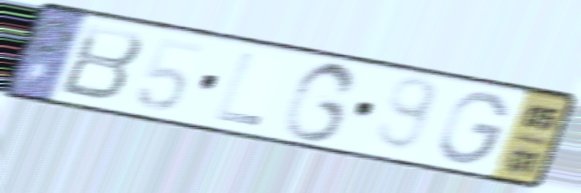5: (134, 34, 209, 113)
9: (372, 73, 443, 159)
B: (54, 20, 149, 105)
G: (278, 59, 363, 145), (436, 89, 513, 167)
L: (211, 49, 265, 130)
